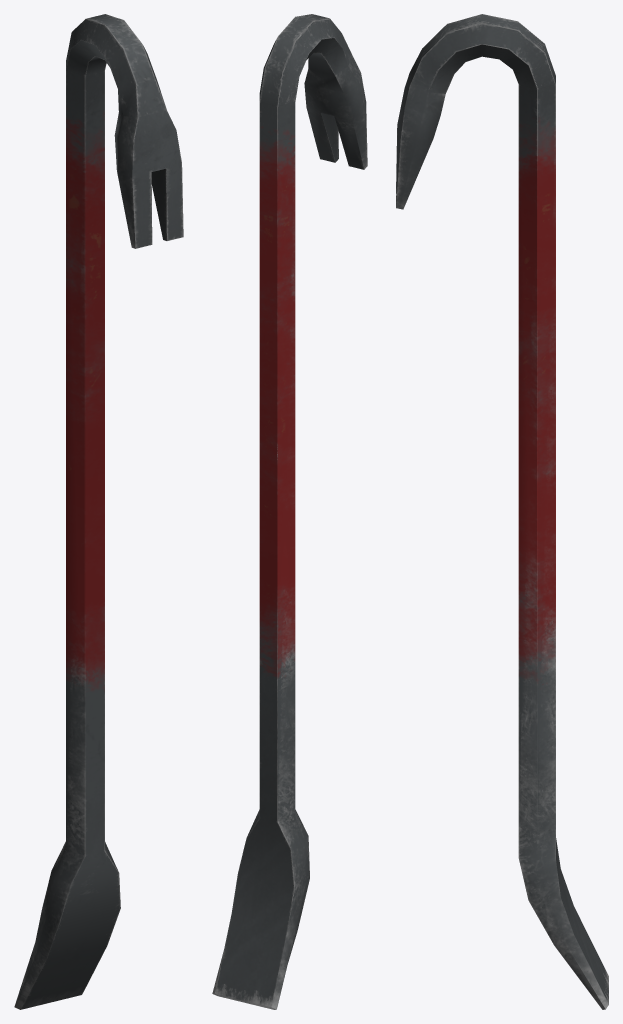
Rendered from Crowbar.glb.
The picture shows the model from 3 angles, left to right: view 1: azimuth 30°, elevation 25°; view 2: azimuth 150°, elevation 25°; view 3: azimuth 270°, elevation 25°; orthographic projection. The views are drawn at different scales.
Visible parts, largest first — view 1: Circle_000; view 2: Circle_000; view 3: Circle_000.
Boxes of the visible parts, box(x1,y1,x2,y2) form: Circle_000: box(14, 14, 183, 1009); Circle_000: box(212, 14, 367, 1009); Circle_000: box(396, 14, 608, 1009).
Size of the model in its own units: 0.0526 by 0.7324 by 0.1446.
Materials: 1 (1 with a texture image).
